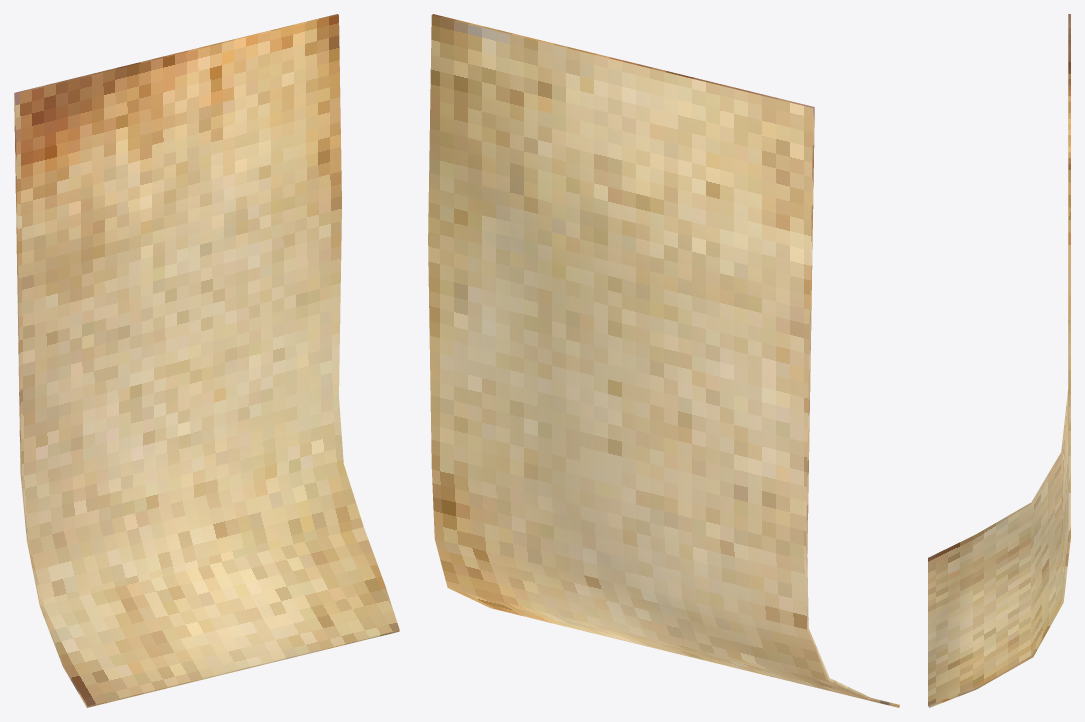
The model's file is Scroll_2.gltf.
The picture shows the model from 3 angles, left to right: view 1: azimuth 30°, elevation 25°; view 2: azimuth 150°, elevation 25°; view 3: azimuth 270°, elevation 25°; orthographic projection. The views are drawn at different scales.
Parts seen in each view (by area): view 1: Scroll_2; view 2: Scroll_2; view 3: Scroll_2.
Boxes of the visible parts, x1=… form: Scroll_2: x1=14, y1=14, x2=399, y2=707; Scroll_2: x1=428, y1=14, x2=899, y2=707; Scroll_2: x1=928, y1=14, x2=1070, y2=707.
Size of the model in its own units: 1.41 by 2.29 by 0.5437.
Materials: 1 (1 with a texture image).
